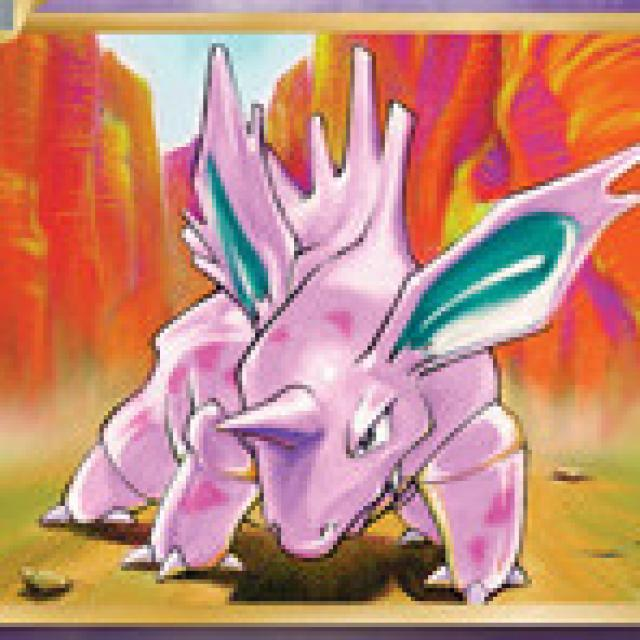Nidorino: (92, 52, 640, 600)
